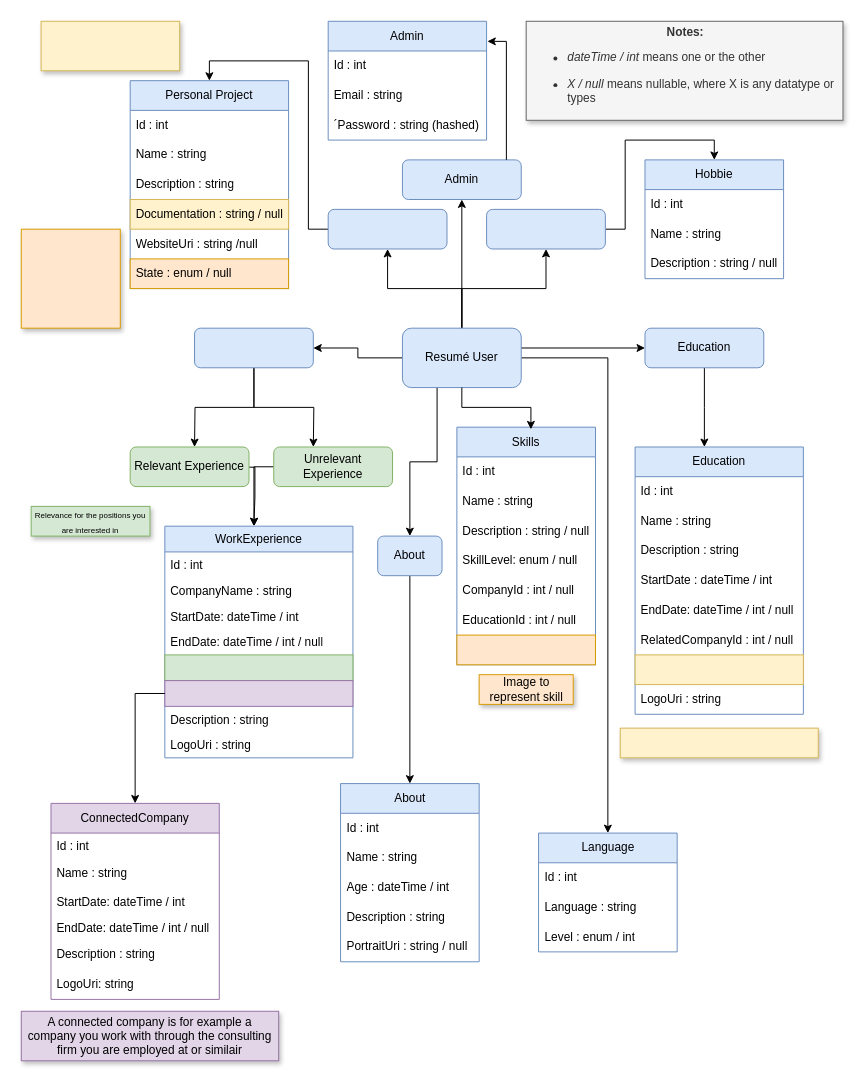
The diagram is 866 pixels wide and 1085 high, and some of its shapes have lost their labels. The centre of each missing label's shape, as x and y in pixels:
ConnectedCompanyId : int / null: (258,693)
Graduated : bool / null: (718,669)
Graduated bool might not be added: (719,744)
Hobbies: (545,228)
If implemented ideally allow markdown if there is time: (111,47)
ImageUri : string: (525,649)
Personal Projects: (387,228)
Relevent : bool: (258,667)
State is if the project is abandoned, inprogress or finnished, might be removed: (71,279)
Work Experience: (253,347)
